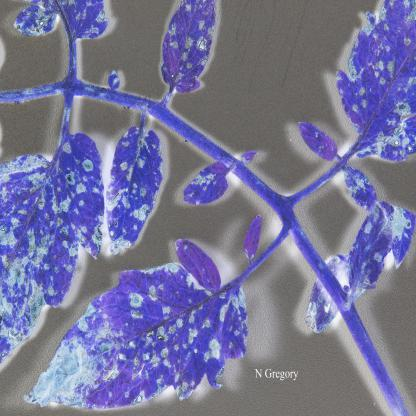tomato septoria leaf spot: (27, 252, 252, 410), (0, 114, 106, 374), (320, 5, 416, 180), (97, 127, 163, 264), (147, 0, 231, 97), (347, 191, 415, 308), (176, 159, 233, 222)
